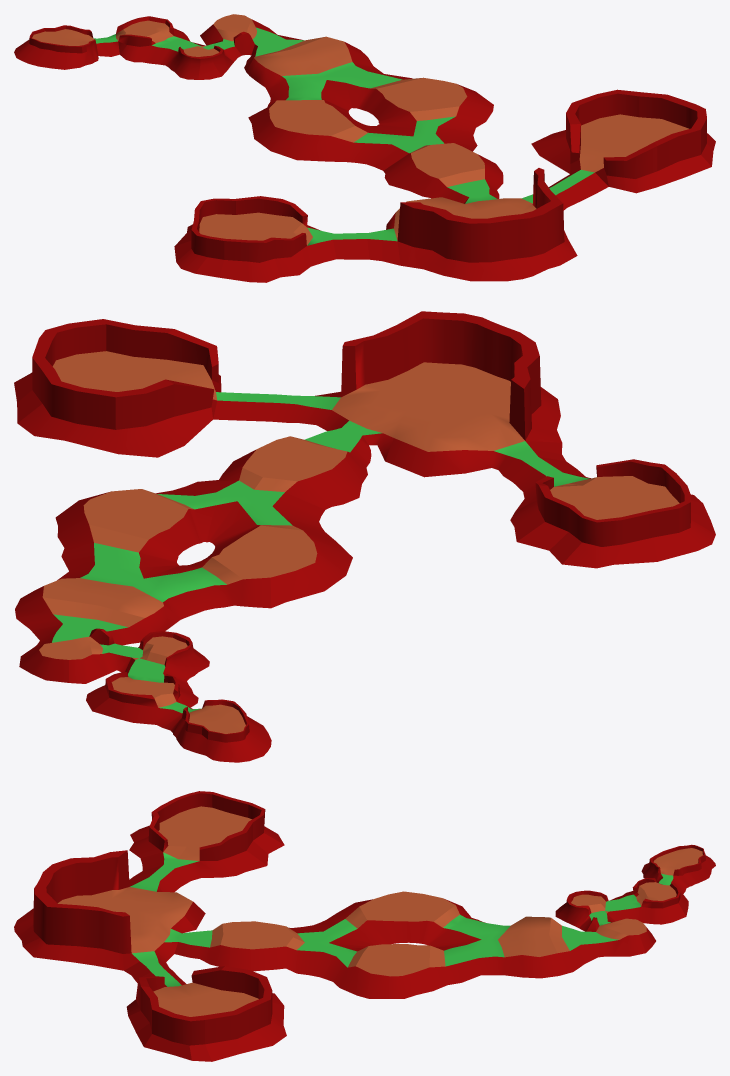
File: Escenario_High.FBX
3 views of the same model, one above another, from view 1: azimuth 30°, elevation 25°; view 2: azimuth 150°, elevation 25°; view 3: azimuth 270°, elevation 25° (orthographic). The views are drawn at different scales.
Parts seen in each view (by area): view 1: Object002; view 2: Object002; view 3: Object002.
Part boxes in pixels (x1,y1,x2,y2): Object002: (14, 14, 715, 282); Object002: (14, 311, 715, 762); Object002: (14, 791, 715, 1061).
Size of the model in its own units: 14295 by 1258 by 16932.
